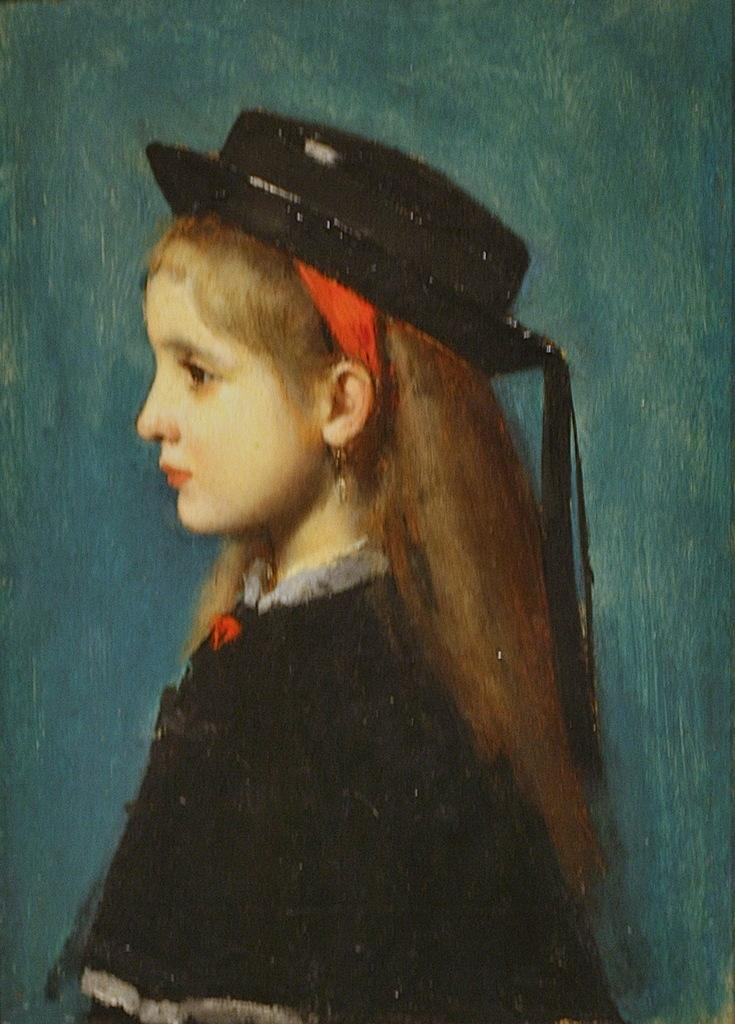Hat: (141, 113, 612, 772)
